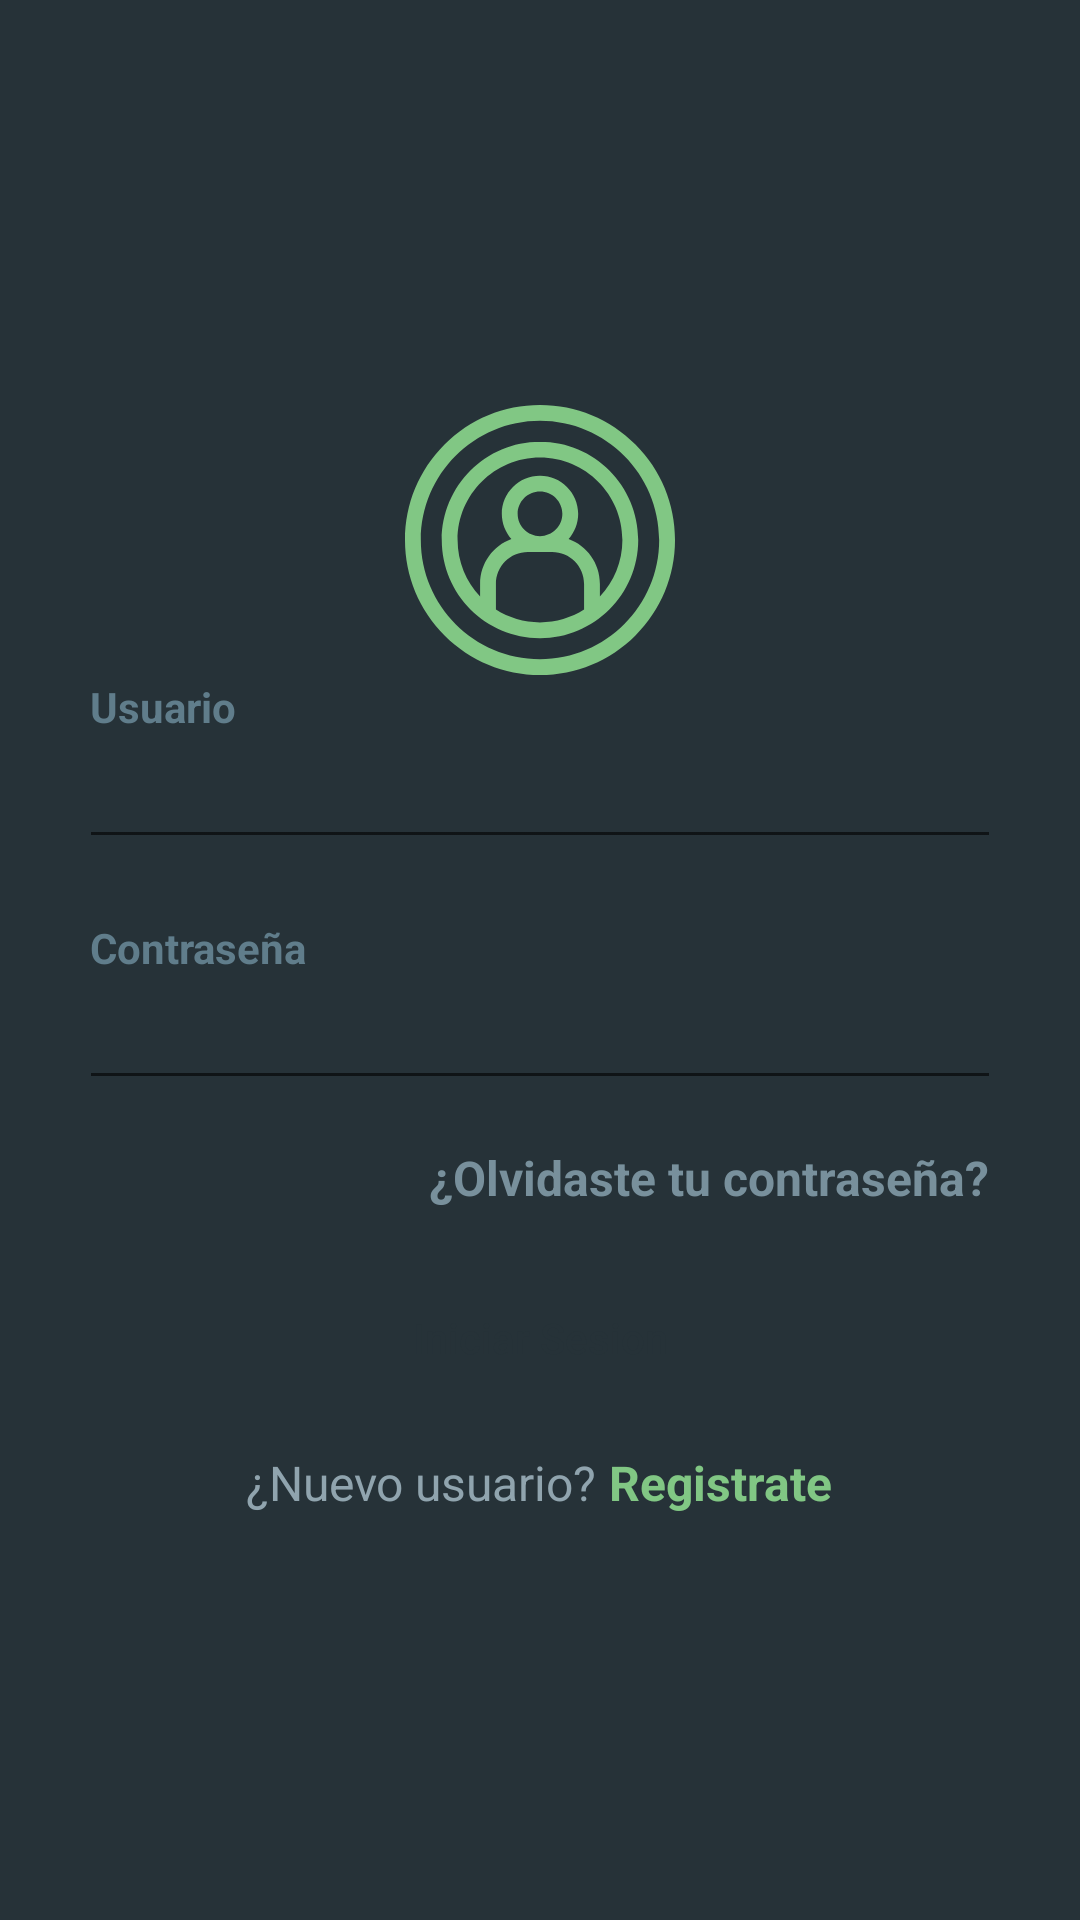

Icon bounding boxes for this 1080 × 1920 phone screenshot, format (x1, y1, x2, y2):
perfil: (405, 405, 675, 675)
